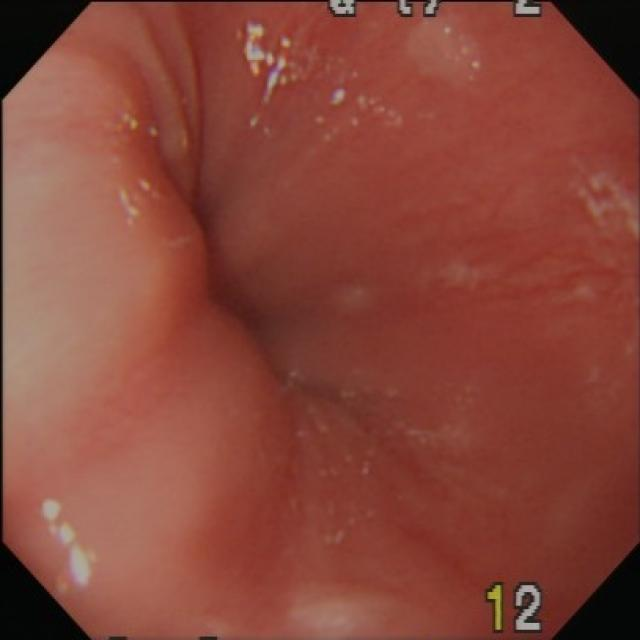I: (111, 136, 360, 427)
J: (287, 583, 405, 639), (572, 157, 640, 251), (394, 420, 473, 460), (430, 258, 495, 297)
S: (485, 581, 547, 636), (325, 3, 545, 18)
U: (235, 18, 300, 135), (40, 497, 100, 598), (116, 176, 157, 229), (328, 87, 350, 109)
